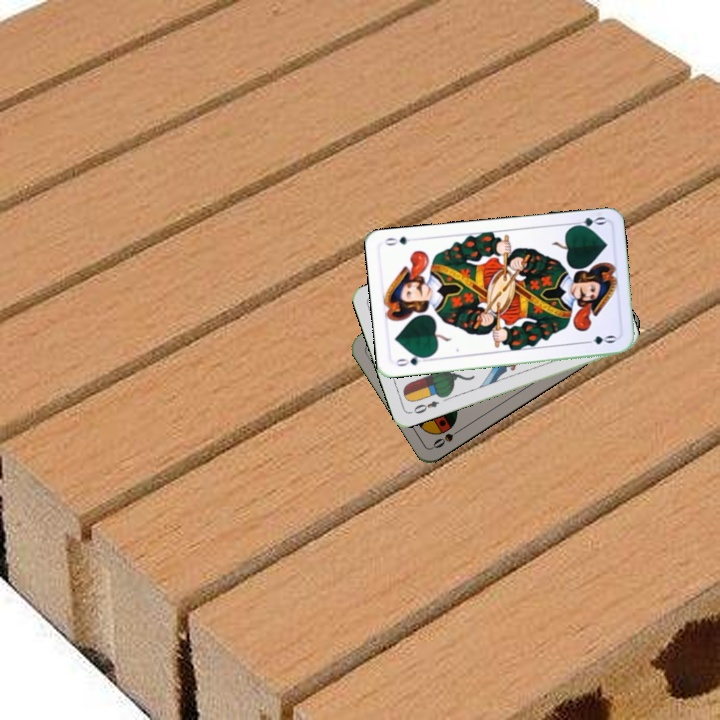EO: (407, 397, 442, 416)
GO: (567, 213, 608, 232), (392, 351, 432, 369)
SO: (429, 424, 466, 451)
